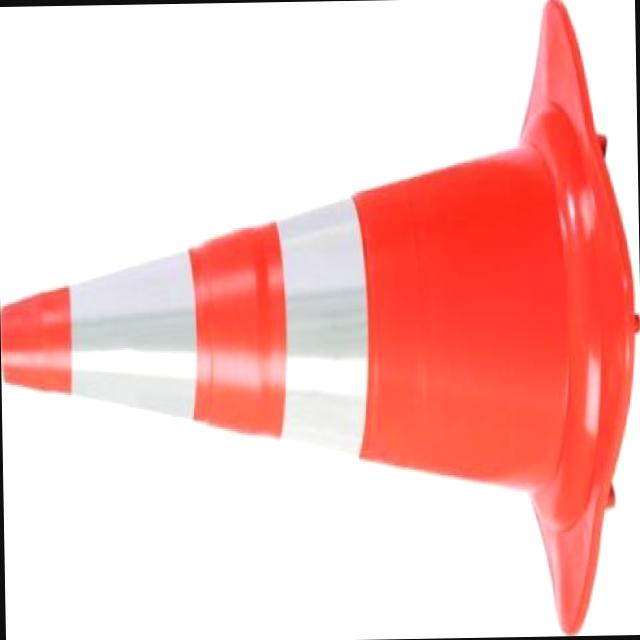cone: (0, 28, 637, 638)
